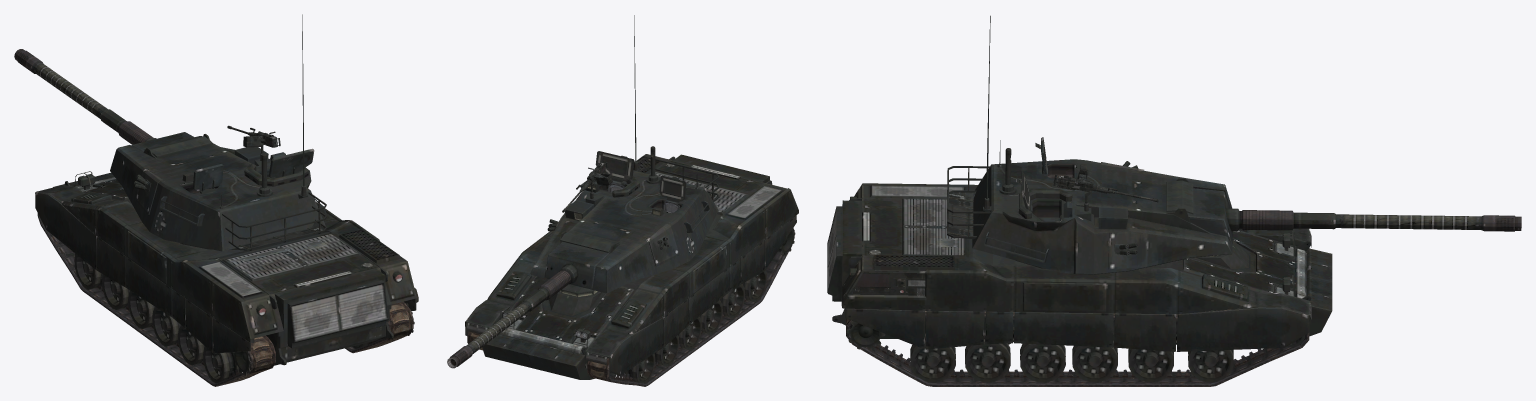
File: Cadillac-Gage Stingray Light Tank.obj
3 views of the same model, side by side, from view 1: azimuth 30°, elevation 25°; view 2: azimuth 150°, elevation 25°; view 3: azimuth 270°, elevation 25° (orthographic). The views are drawn at different scales.
Visible parts, largest first — view 1: DrawCall_2446, DrawCall_2469, DrawCall_2522, DrawCall_2458, DrawCall_2475, DrawCall_2456, DrawCall_2523, DrawCall_2457, DrawCall_2470, DrawCall_2454, DrawCall_2481, DrawCall_2453 (+11 smaller); view 2: DrawCall_2446, DrawCall_2469, DrawCall_2470, DrawCall_2522, DrawCall_2458, DrawCall_2475, DrawCall_2456, DrawCall_2472, DrawCall_2457, DrawCall_2454, DrawCall_2474, DrawCall_2453 (+9 smaller); view 3: DrawCall_2446, DrawCall_2469, DrawCall_2452, DrawCall_2523, DrawCall_2475, DrawCall_2450, DrawCall_2470, DrawCall_2451, DrawCall_2448, DrawCall_2447, DrawCall_2518, DrawCall_2486 (+10 smaller).
Boxes of the visible parts, x1,y1,x2,y2 form: DrawCall_2446: (36,171,418,365); DrawCall_2469: (110,134,326,251); DrawCall_2522: (37,213,275,386); DrawCall_2458: (35,192,96,269); DrawCall_2475: (14,49,125,132); DrawCall_2456: (125,256,172,316); DrawCall_2523: (345,301,413,353); DrawCall_2457: (96,236,125,287); DrawCall_2470: (118,121,194,155); DrawCall_2454: (185,298,212,352); DrawCall_2481: (203,346,239,383); DrawCall_2453: (213,318,250,353); DrawCall_2446: (466,154,798,379); DrawCall_2469: (530,146,719,293); DrawCall_2470: (538,241,609,300); DrawCall_2522: (587,228,794,386); DrawCall_2458: (609,318,663,375); DrawCall_2475: (447,287,549,368); DrawCall_2456: (688,268,729,324); DrawCall_2472: (595,151,634,180); DrawCall_2457: (663,298,688,346); DrawCall_2454: (740,240,764,284); DrawCall_2474: (560,230,619,252); DrawCall_2453: (764,215,796,270); DrawCall_2446: (827,183,1332,344); DrawCall_2469: (947,140,1232,274); DrawCall_2452: (1176,307,1309,351); DrawCall_2523: (846,309,1309,386); DrawCall_2475: (1293,212,1521,231); DrawCall_2450: (1014,312,1113,347); DrawCall_2470: (1174,188,1293,244); DrawCall_2451: (1114,313,1176,351); DrawCall_2448: (925,311,984,349); DrawCall_2447: (845,308,925,349); DrawCall_2518: (850,272,925,295); DrawCall_2486: (965,332,1010,382).
Size of the model in its own units: 3.1 by 5.64 by 10.13.
